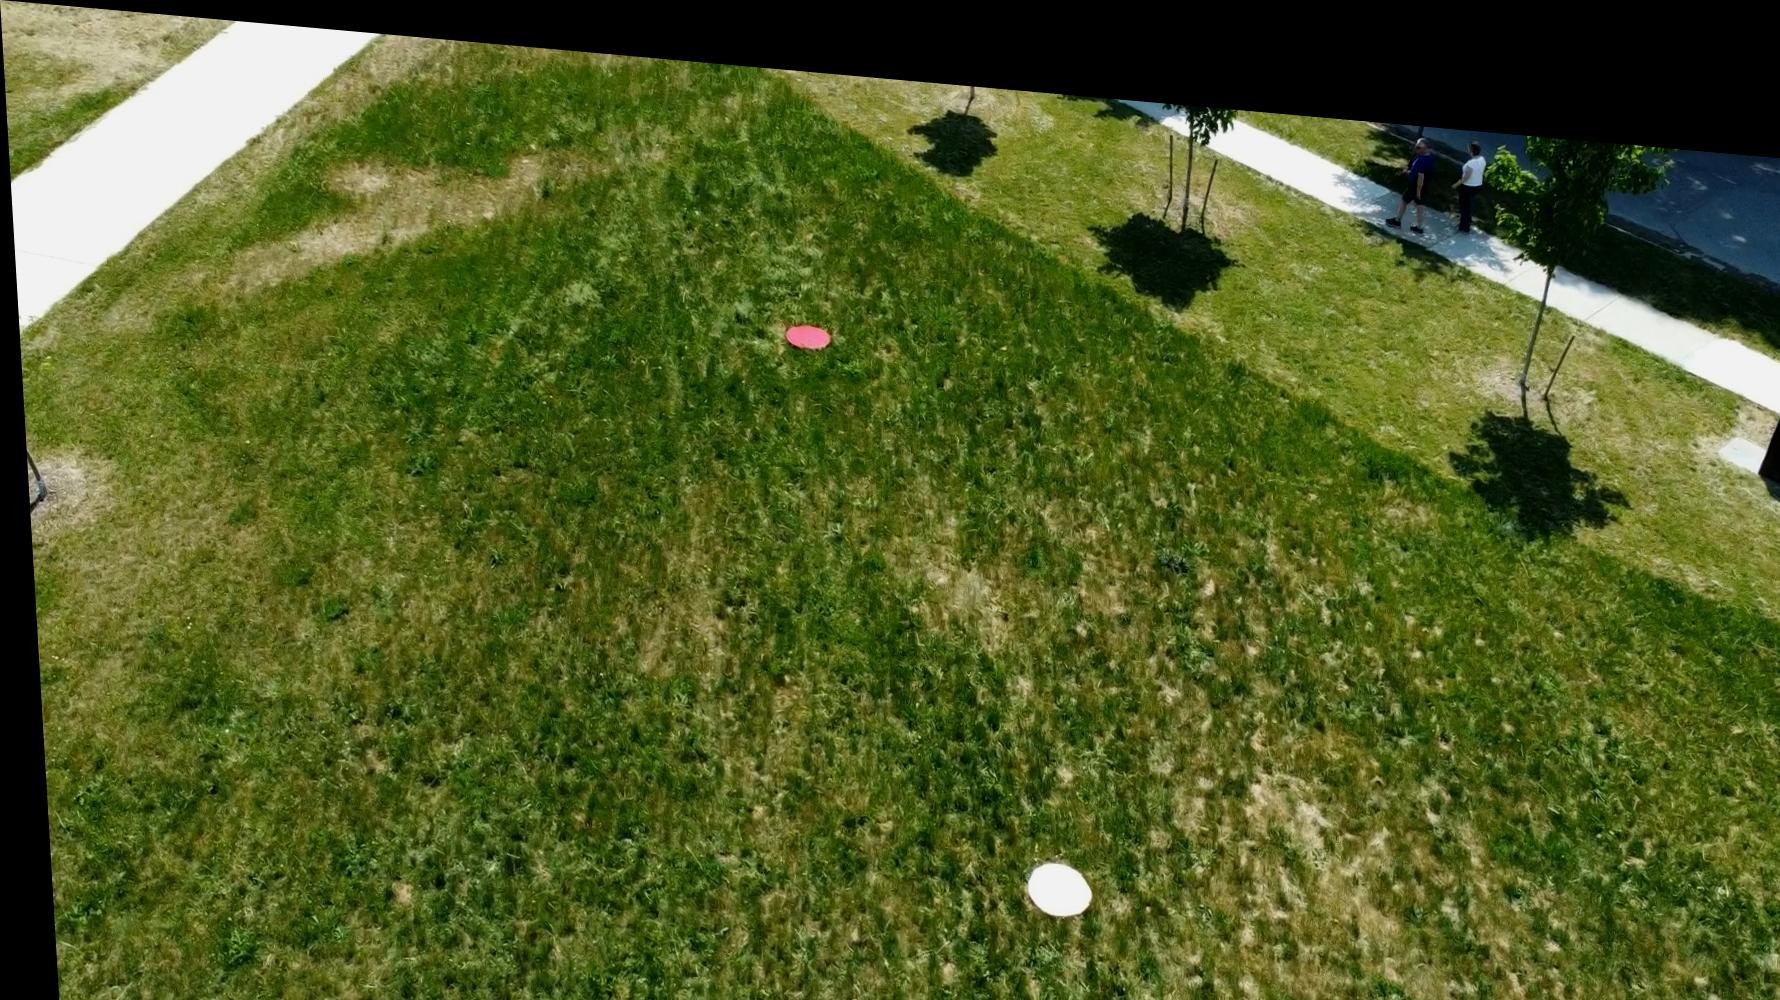Red: (780, 307, 830, 339)
Unknown: (1012, 840, 1084, 902)
